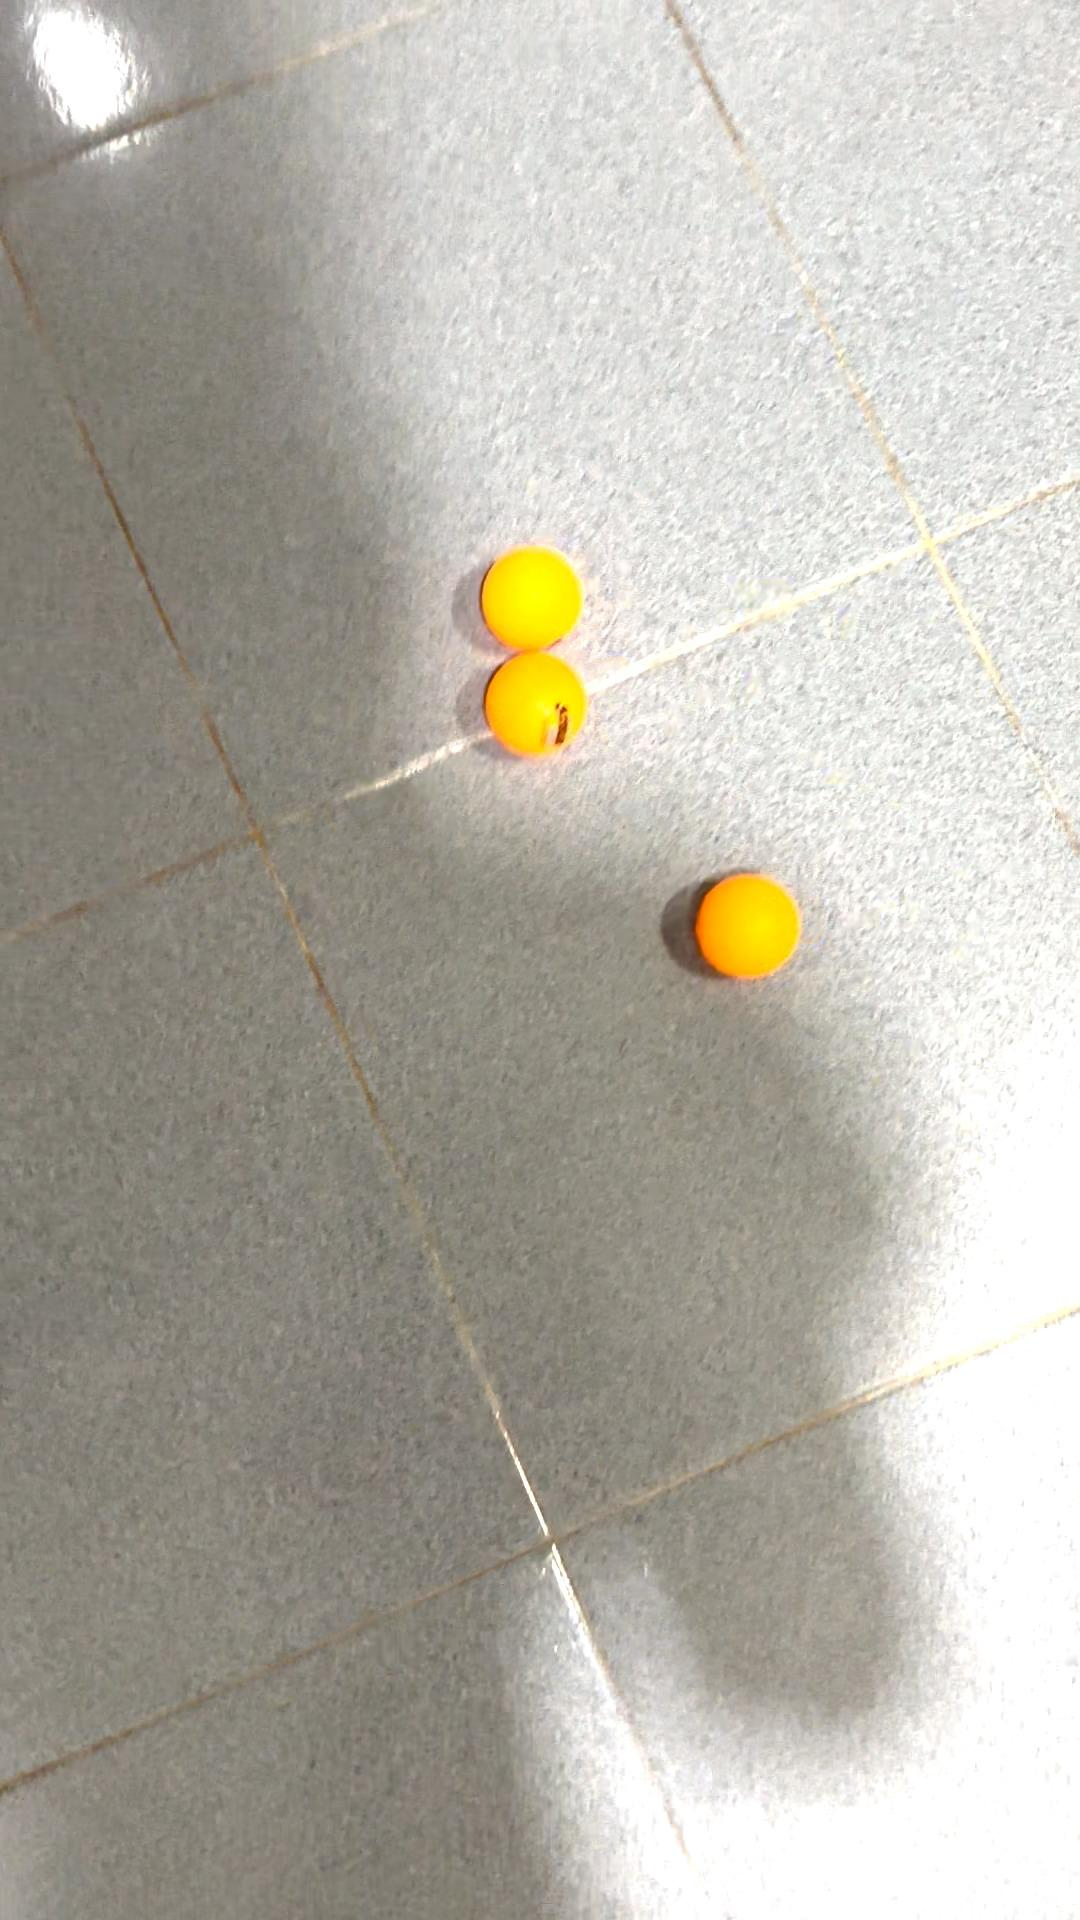oball: (688, 865, 811, 996), (484, 647, 595, 770), (475, 541, 588, 653)
